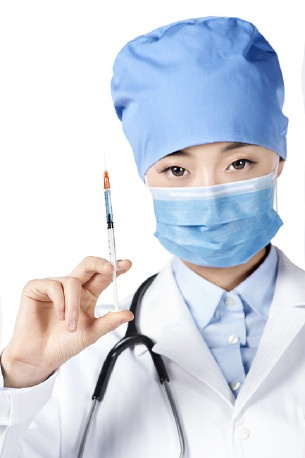Mask: (147, 139, 278, 270)
